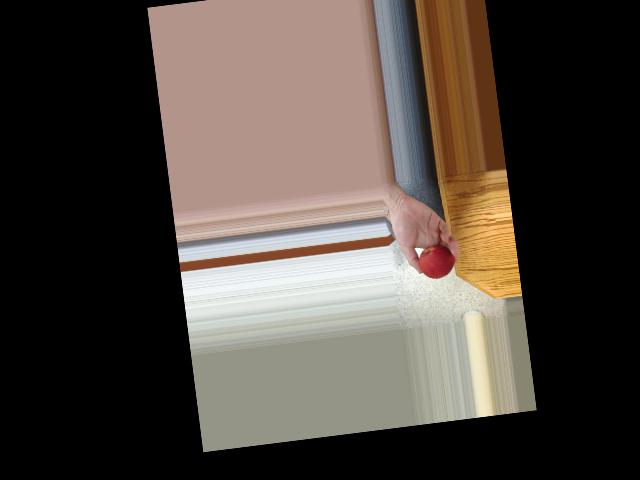apple: (413, 238, 456, 281)
